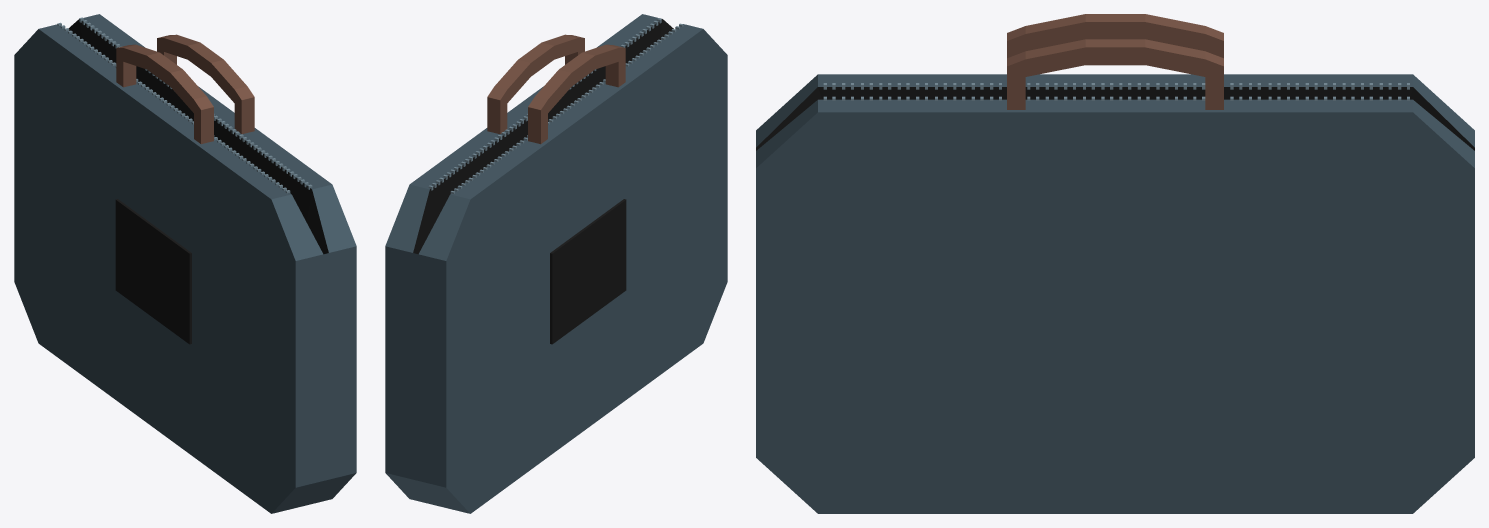
File: laptop-bag.glb
The picture shows the model from 3 angles, left to right: view 1: azimuth 30°, elevation 25°; view 2: azimuth 150°, elevation 25°; view 3: azimuth 270°, elevation 25°; orthographic projection. The views are drawn at different scales.
Parts seen in each view (by area): view 1: Laptopbag_Cube; view 2: Laptopbag_Cube; view 3: Laptopbag_Cube.
Boxes of the visible parts, left/top/right/bottom form: Laptopbag_Cube: left=14, top=14, right=356, bottom=513; Laptopbag_Cube: left=385, top=14, right=727, bottom=513; Laptopbag_Cube: left=756, top=14, right=1474, bottom=513.
Size of the model in its own units: 2.11 by 11.56 by 16.22.
